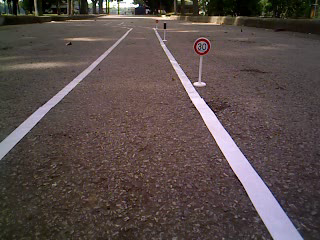limit 30: (192, 36, 212, 57)
